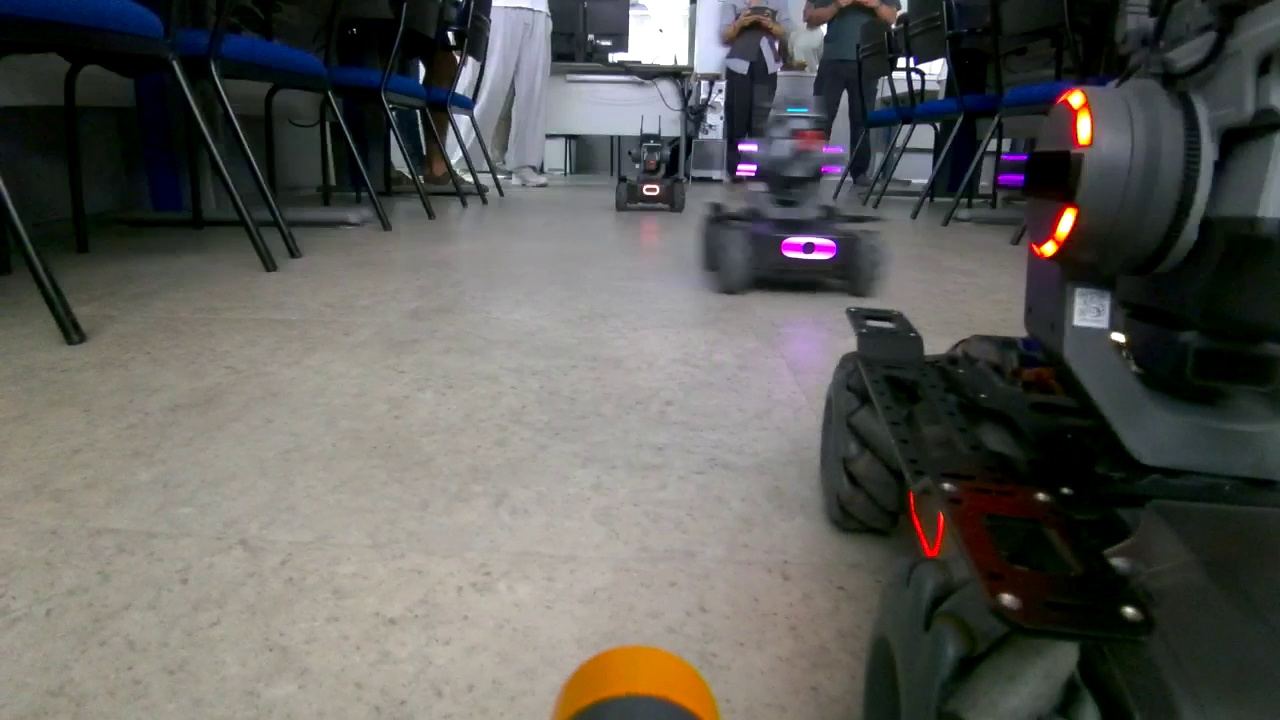robot: (832, 2, 1280, 720), (709, 97, 886, 298), (616, 112, 689, 216)
